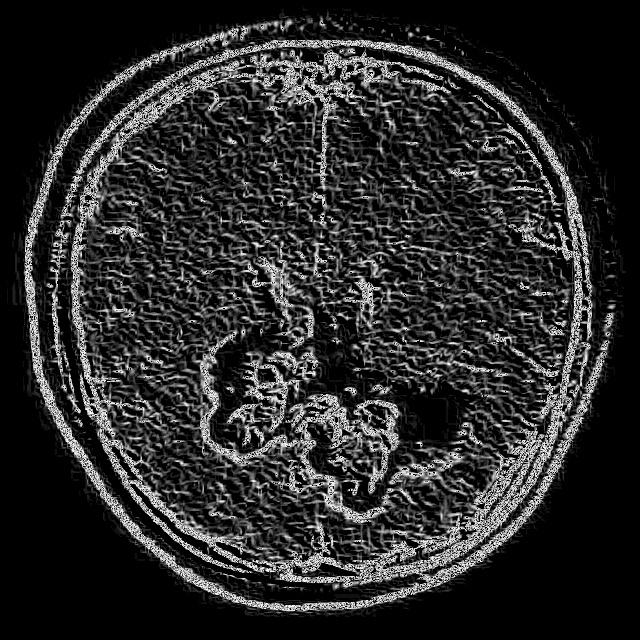Brain-Tumor: (175, 302, 488, 531)
